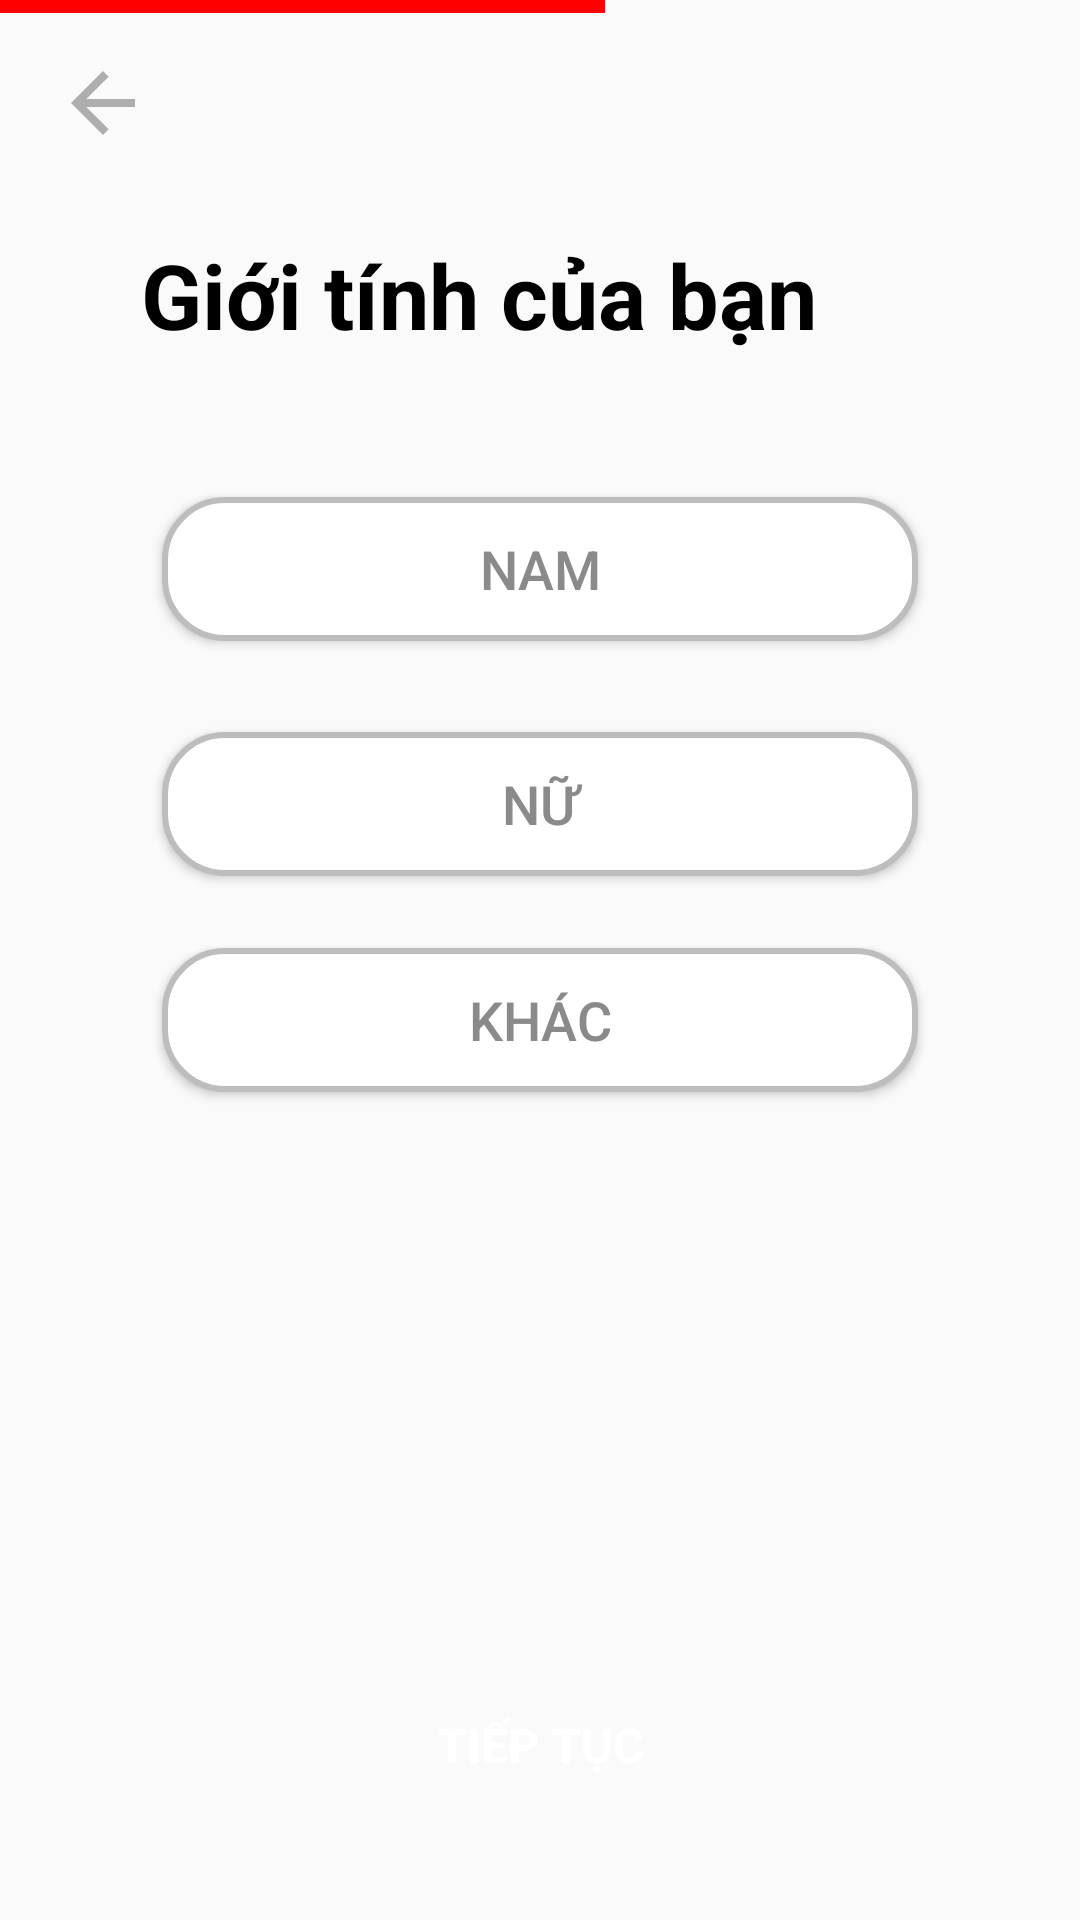

Icon click points for this 1080 x 1920 phone screenshot, format (x,y):
arrow back: (103,103)
